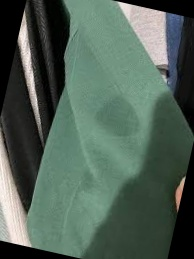oil: (90, 94, 147, 143)
